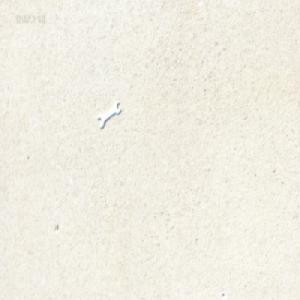Wrench: (97, 101, 120, 129)
